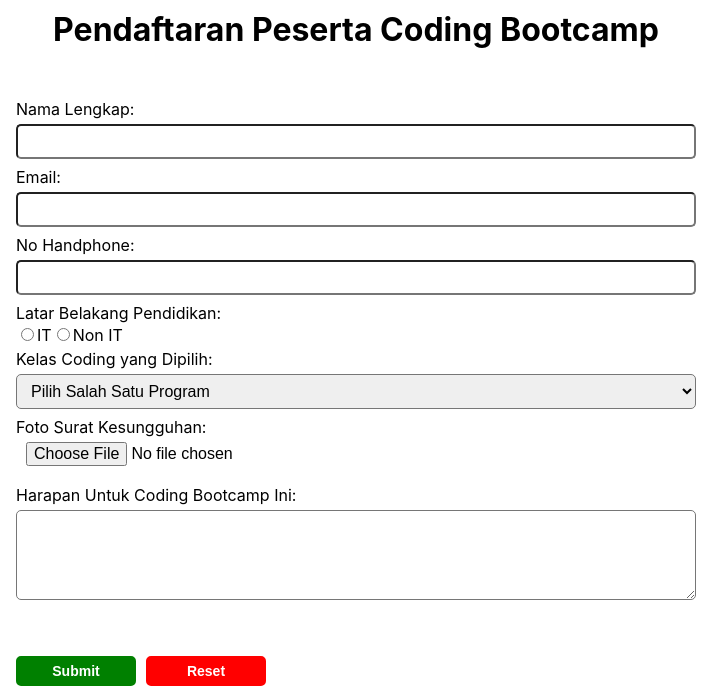
Test: Form Page › input text for Nama, Email with number
In the field labelled "Nama Lengkap:": coordinates (356, 142) [16,124,696,159], type "Riyandi8"
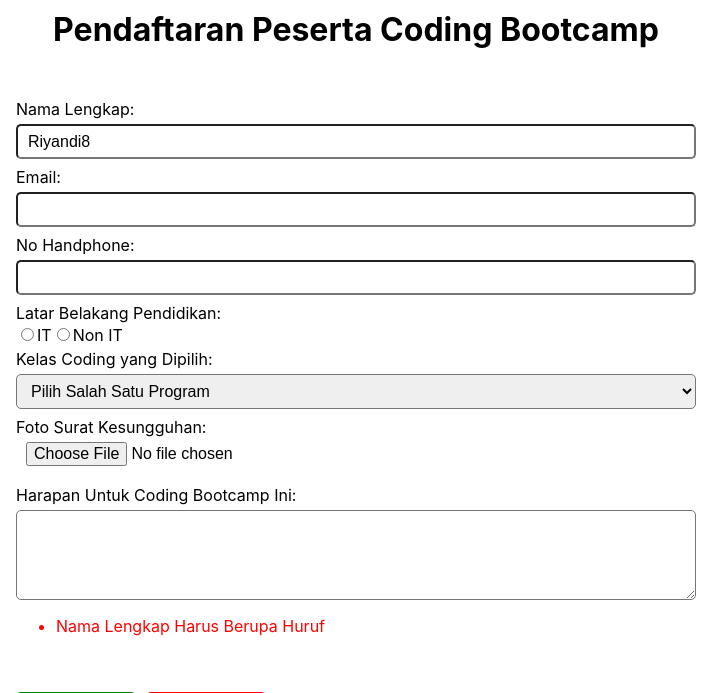
In the field labelled "Email:": coordinates (356, 210) [16,192,696,227], type "riyandi"
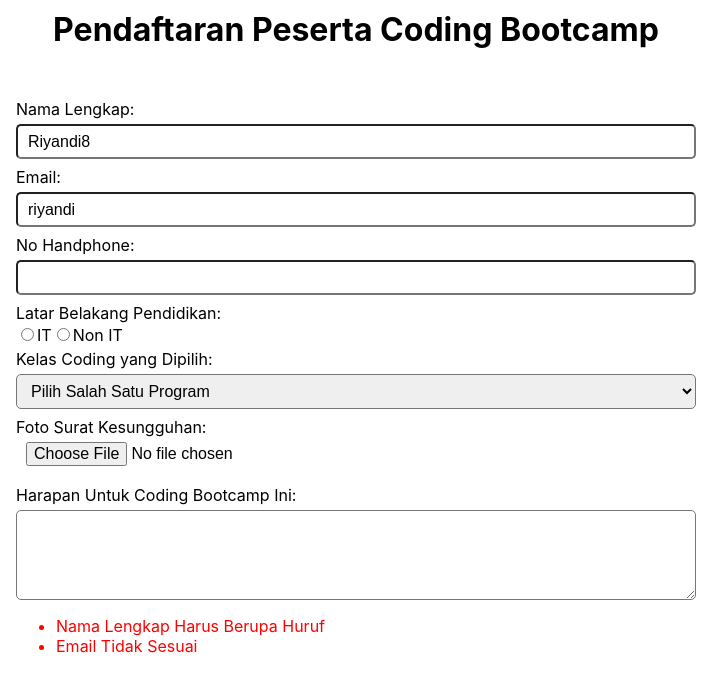
Expected: the list item "Nama Lengkap Harus Berupa Huruf" is shown, [56,616,325,636]
Expected: the list item "Email Tidak Sesuai" is shown, [56,636,198,656]
